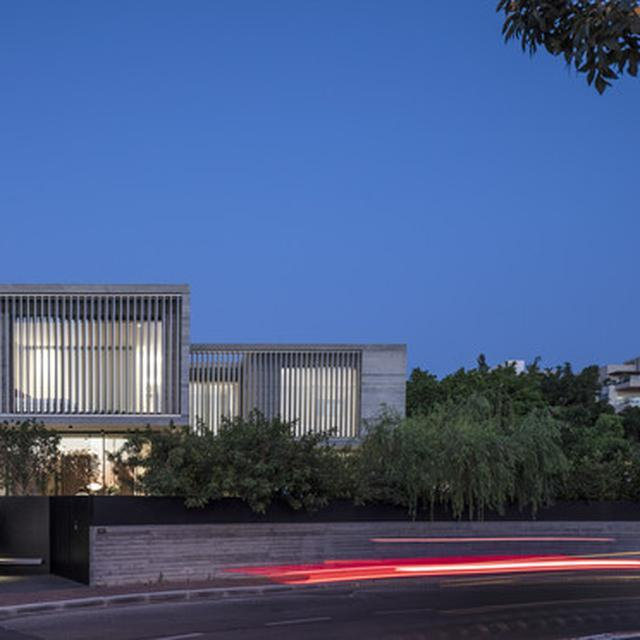building: (0, 281, 412, 465), (587, 352, 640, 420)
